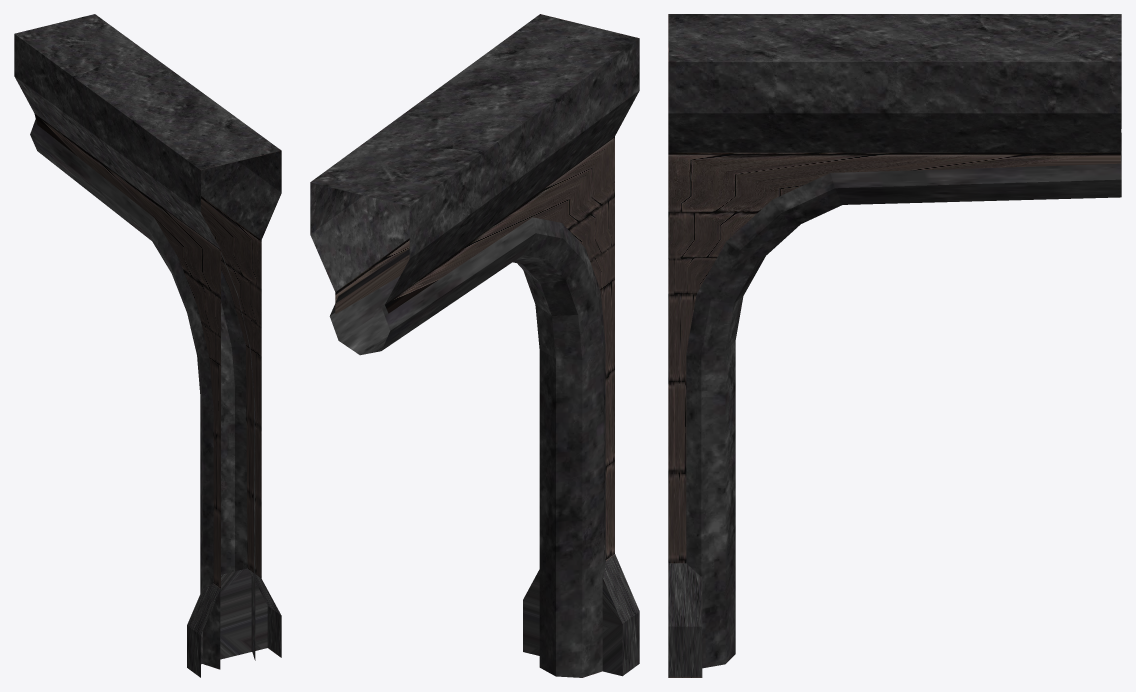
Rendered from Bk_WallB.glb.
3 renders of one model, left to right at view 1: azimuth 30°, elevation 25°; view 2: azimuth 150°, elevation 25°; view 3: azimuth 270°, elevation 25°, orthographic. The views are drawn at different scales.
Visible parts, largest first — view 1: Bk_WallB; view 2: Bk_WallB; view 3: Bk_WallB.
Boxes of the visible parts, x1,y1,x2,y2 form: Bk_WallB: [14, 14, 281, 677]; Bk_WallB: [310, 14, 639, 677]; Bk_WallB: [668, 14, 1121, 677].
Size of the model in its own units: 0.5 by 3 by 2.
Materials: 1 (1 with a texture image).
